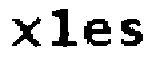1: (49, 6, 80, 52)
e: (82, 16, 112, 48)
s: (120, 18, 144, 49)
x: (11, 15, 43, 48)
